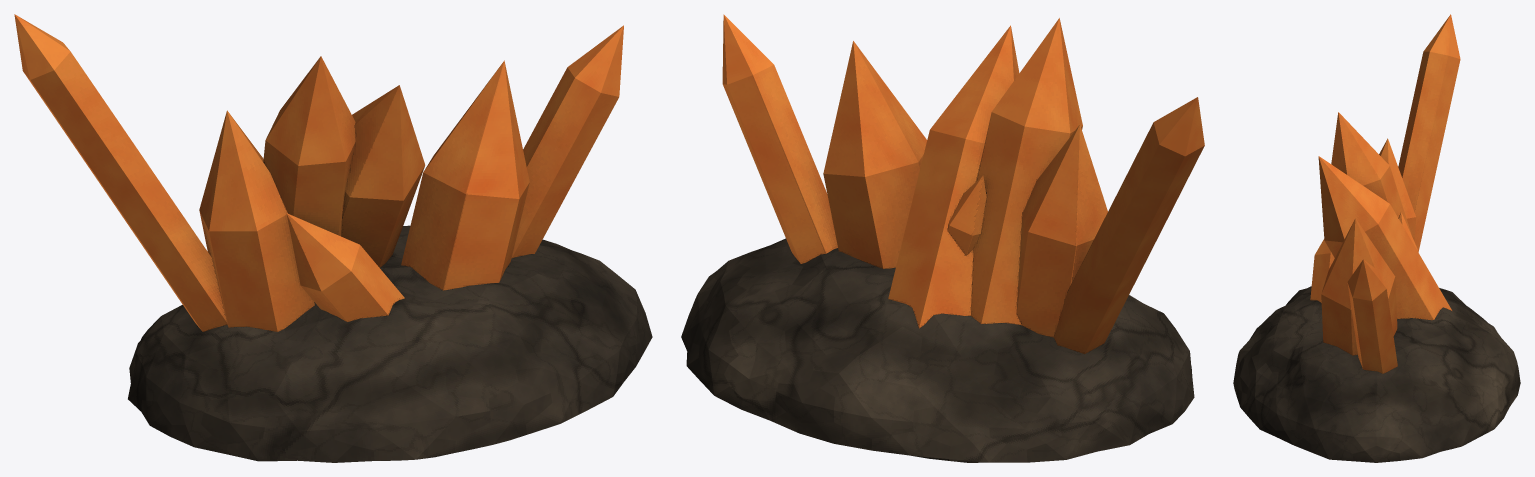
Rendered from mine_originium_a.glb.
3 views of the same model, side by side, from view 1: azimuth 30°, elevation 25°; view 2: azimuth 150°, elevation 25°; view 3: azimuth 270°, elevation 25° (orthographic). The views are drawn at different scales.
Visible parts, largest first — view 1: mine_originium_a; view 2: mine_originium_a; view 3: mine_originium_a.
Part boxes in pixels (left/top/right/bottom): mine_originium_a: left=14, top=14, right=652, bottom=462; mine_originium_a: left=681, top=14, right=1204, bottom=462; mine_originium_a: left=1233, top=14, right=1520, bottom=462.
Bounding box in the file's own units: 1.74 × 1.17 × 1.15.
Materials: 2 (2 with a texture image).
